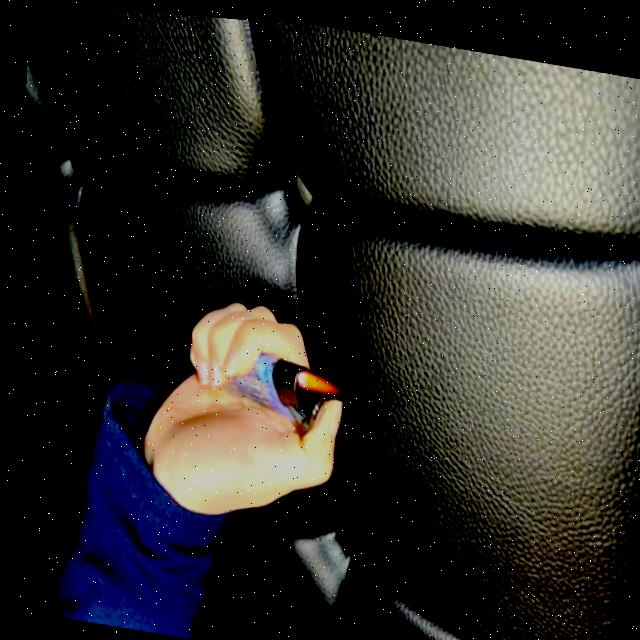Fire: (289, 362, 337, 391)
